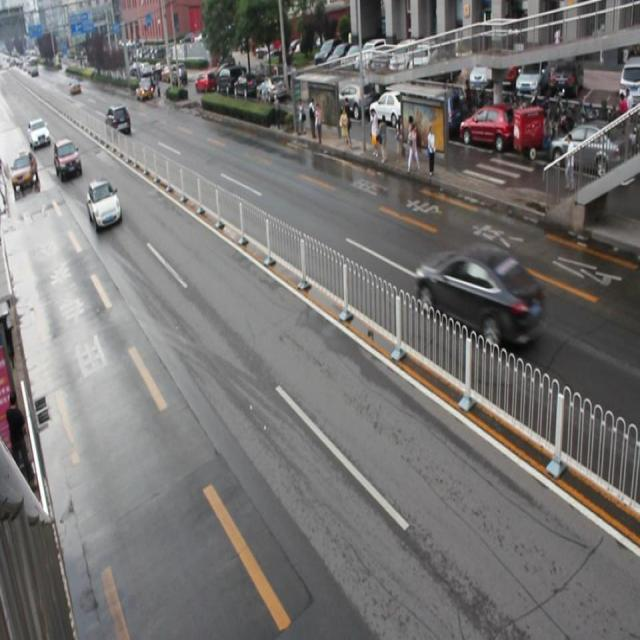car: (414, 245, 544, 348), (88, 178, 121, 230), (54, 138, 82, 180)
